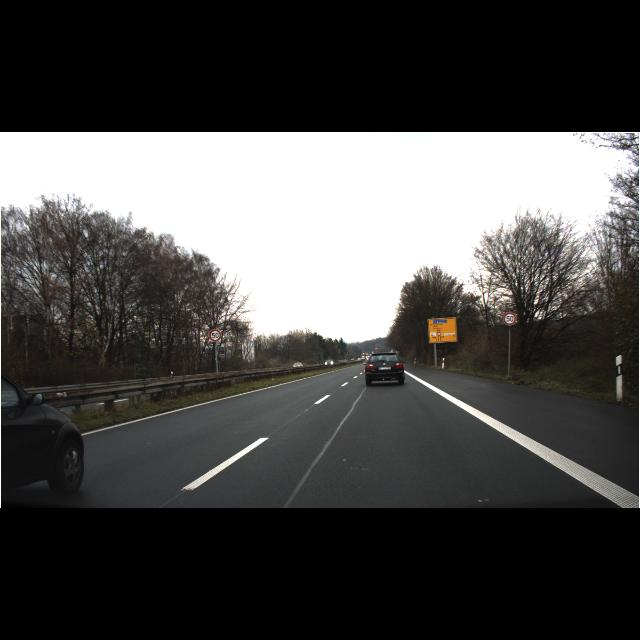prohibitory: (502, 312, 516, 326), (209, 330, 221, 342)
